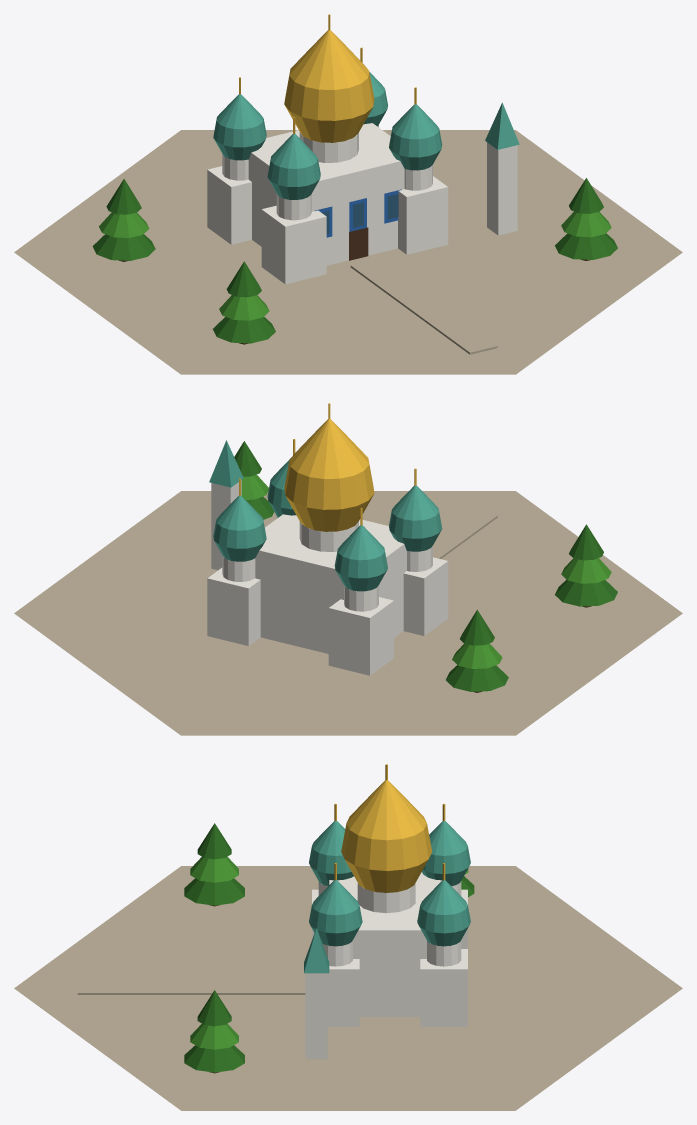
File: district_lavra_1.fbx
3 views of the same model, one above another, from view 1: azimuth 30°, elevation 25°; view 2: azimuth 150°, elevation 25°; view 3: azimuth 270°, elevation 25° (orthographic).
Parts seen in each view (by area): view 1: district_lavra_1; view 2: district_lavra_1; view 3: district_lavra_1.
Boxes of the visible parts, x1,y1,x2,y2 form: district_lavra_1: (14,14,682,374); district_lavra_1: (14,403,682,735); district_lavra_1: (14,764,682,1110).
Bounding box in the file's own units: 182 × 77.5 × 210.
